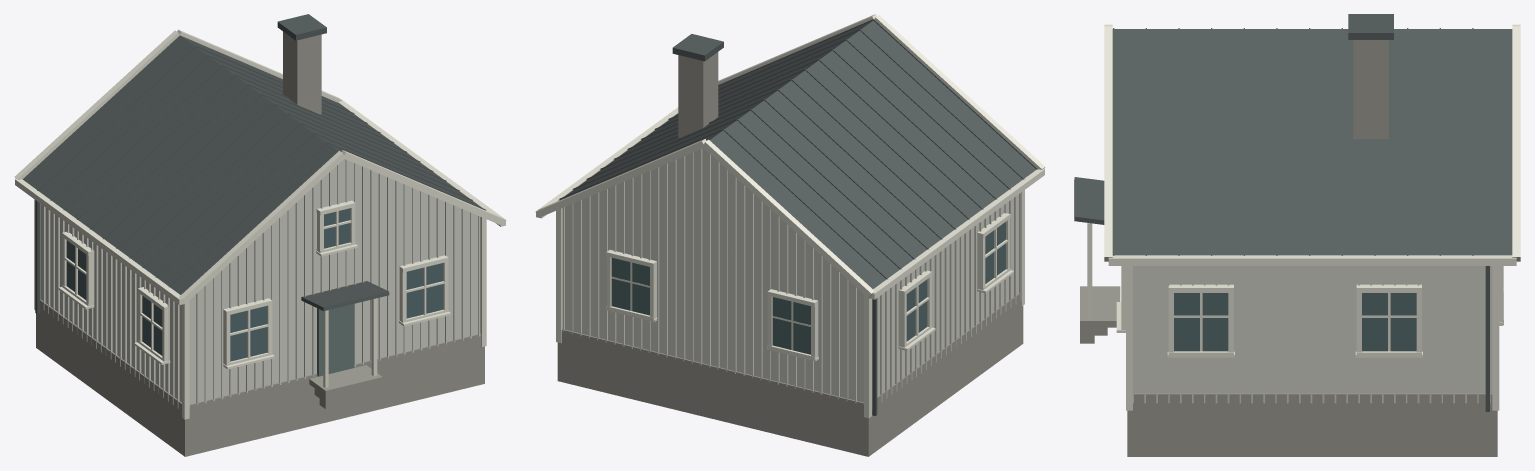
The model's file is cottage_near.glb.
3 renders of one model, left to right at view 1: azimuth 30°, elevation 25°; view 2: azimuth 150°, elevation 25°; view 3: azimuth 270°, elevation 25°, orthographic. The views are drawn at different scales.
Visible parts, largest first — view 1: cottage_near; view 2: cottage_near; view 3: cottage_near.
Part boxes in pixels (x1,y1,x2,y2): cottage_near: [14, 14, 506, 456]; cottage_near: [535, 14, 1045, 456]; cottage_near: [1074, 14, 1520, 456].
Size of the model in its own units: 9.46 by 8.52 by 9.02.
